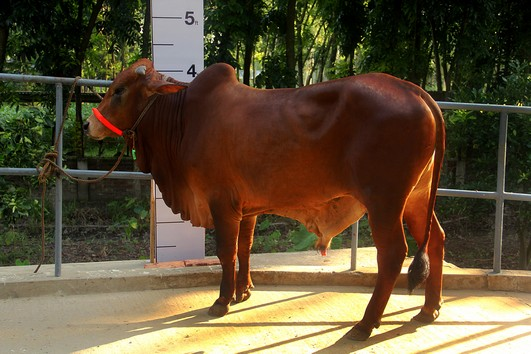cow: (79, 52, 454, 342)
